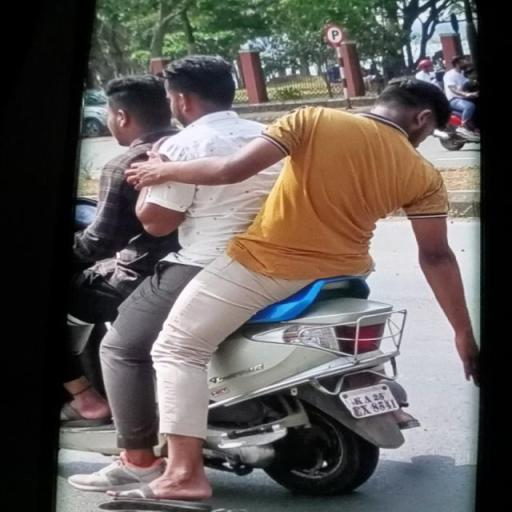bike: (67, 52, 425, 506)
numberplate: (337, 370, 405, 424)
withouthelmet: (370, 71, 460, 154), (155, 48, 235, 123), (94, 66, 171, 142)
